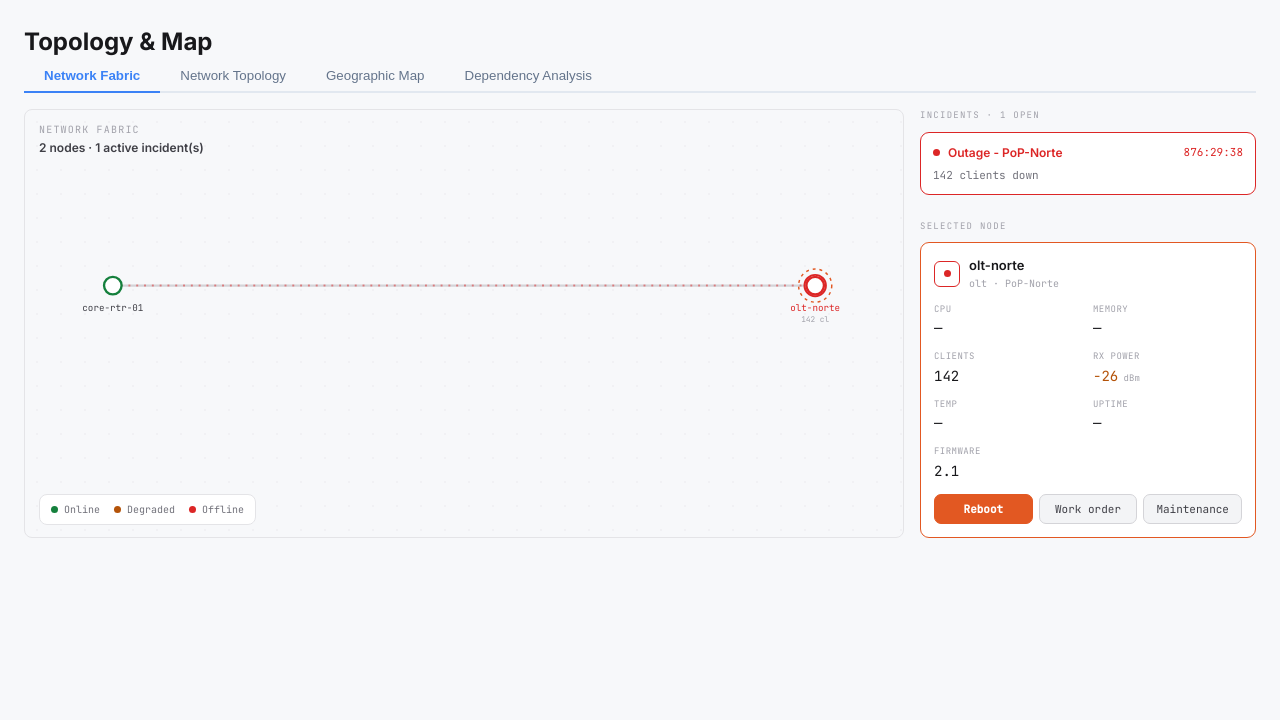
it: TopologyMapPage (§13) › fabric reboot surfaces an honest failure on 422 (never a fake success)
Click the button "Reboot".
click(983, 509)  # box left=934, top=494, right=1033, bottom=524
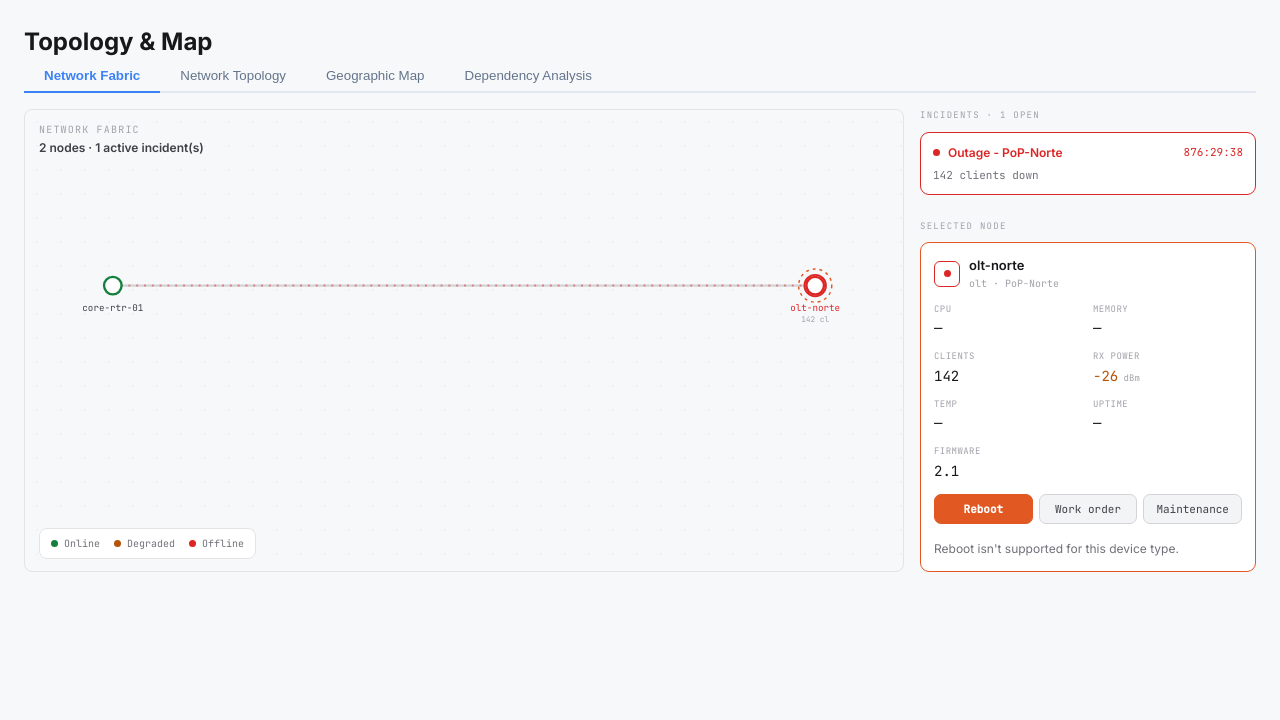
expect the text "Reboot isn't supported for this device type." is shown: met, box left=934, top=541, right=1179, bottom=556
